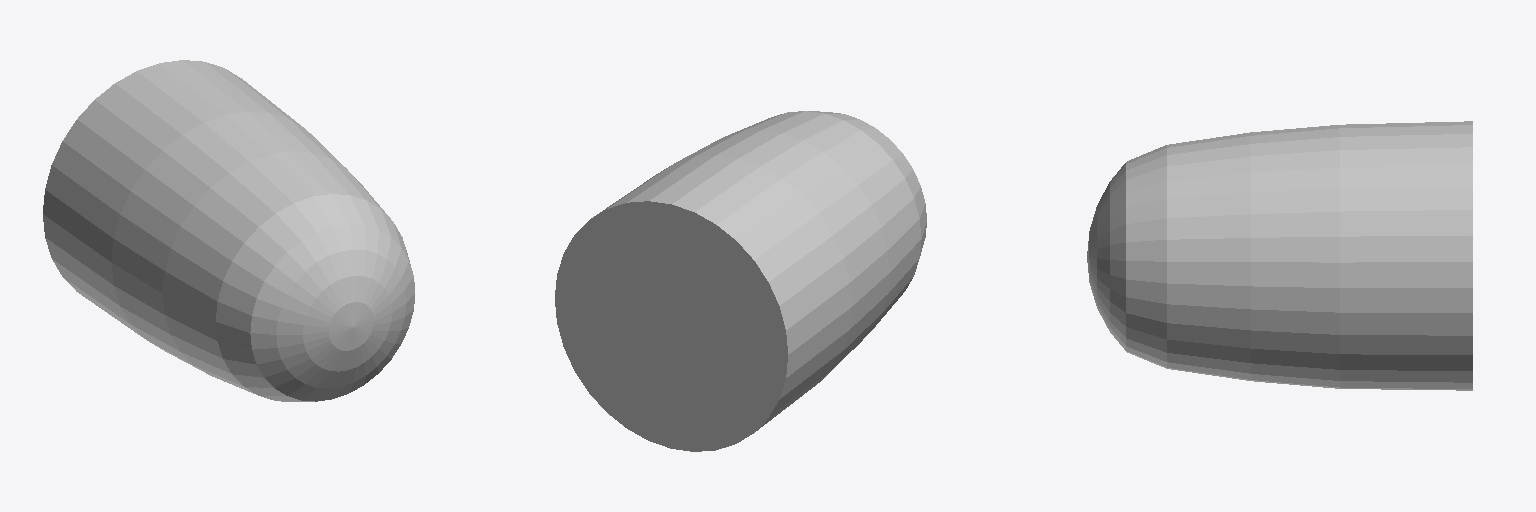
Rendered from fireball2.obj.
3 renders of one model, left to right at view 1: azimuth 30°, elevation 25°; view 2: azimuth 150°, elevation 25°; view 3: azimuth 270°, elevation 25°, orthographic.
Parts seen in each view (by area): view 1: Sphere; view 2: Sphere; view 3: Sphere.
Boxes of the visible parts, box(x1,y1,x2,y2) form: Sphere: box(43, 60, 414, 401); Sphere: box(555, 111, 926, 451); Sphere: box(1087, 121, 1472, 390).
Size of the model in its own units: 2 by 2 by 2.86.